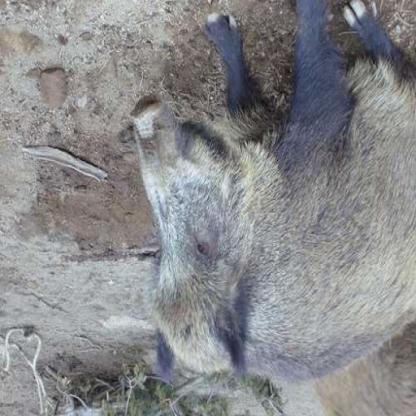boar: (103, 1, 415, 413)
